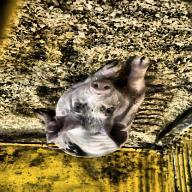boar: (32, 56, 152, 158)
